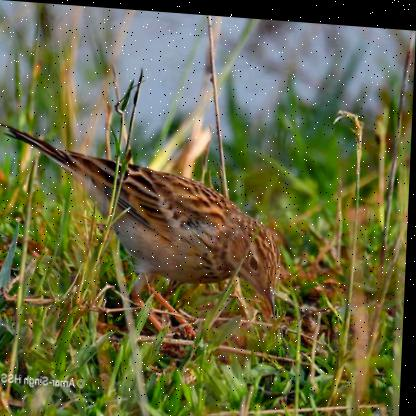Burung: (0, 122, 288, 345)
